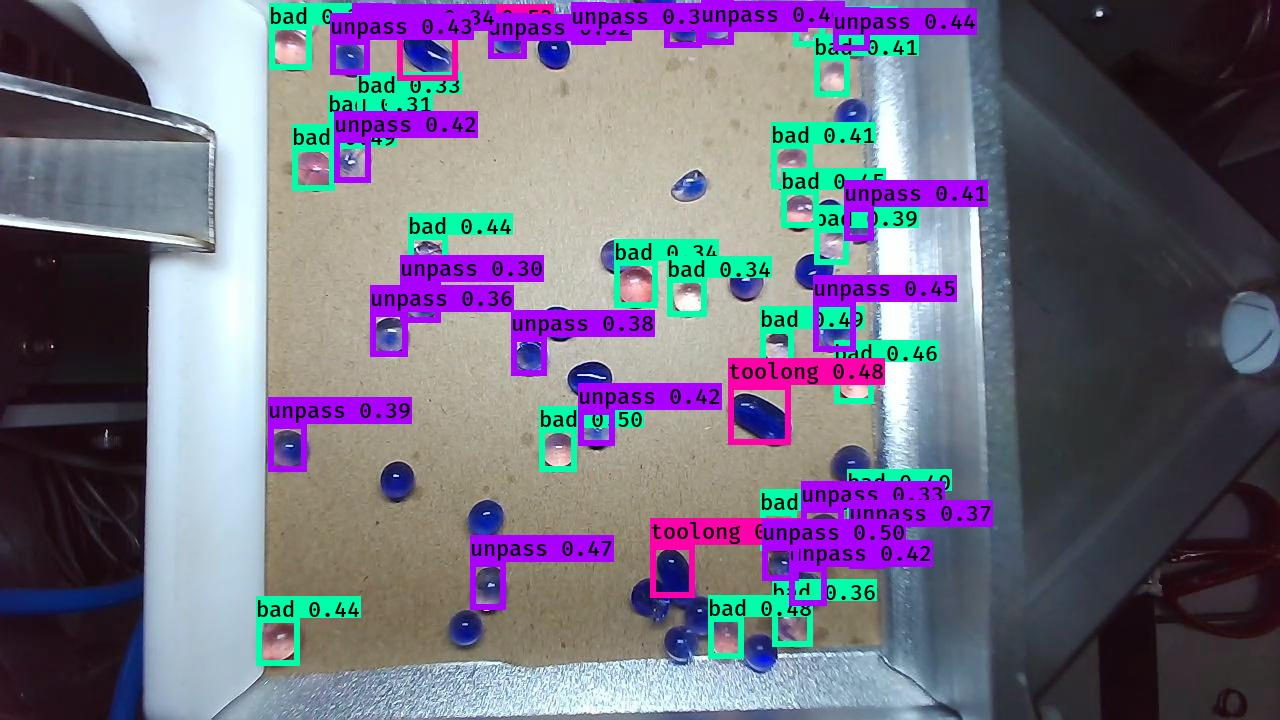bad: (769, 600, 816, 647), (256, 619, 305, 664), (766, 144, 813, 189), (295, 143, 342, 187), (793, 1, 830, 50), (272, 29, 313, 70), (706, 617, 747, 658), (617, 266, 658, 307), (833, 368, 875, 406), (669, 282, 712, 319), (540, 427, 576, 469), (358, 96, 395, 136), (281, 1, 321, 37), (780, 192, 817, 230), (815, 228, 852, 266), (817, 57, 851, 98), (409, 239, 451, 272), (845, 497, 884, 532), (762, 330, 796, 367), (329, 118, 365, 152), (764, 516, 798, 549)
defact: (669, 167, 708, 202)
pass: (626, 574, 672, 627), (566, 357, 613, 402), (465, 498, 508, 542), (830, 441, 870, 488), (377, 459, 417, 503), (723, 261, 761, 304), (682, 594, 720, 636), (742, 633, 780, 675), (794, 250, 832, 291), (835, 95, 872, 137), (449, 607, 484, 651), (537, 302, 575, 340), (538, 31, 573, 71), (662, 625, 698, 662), (812, 196, 843, 231)
toolong: (728, 390, 795, 449), (399, 31, 461, 78), (654, 542, 695, 602)
unpass: (832, 3, 874, 59), (817, 305, 861, 355), (267, 428, 313, 473), (468, 564, 506, 614), (348, 1, 392, 40), (370, 316, 410, 358), (666, 7, 704, 49), (577, 410, 616, 450), (805, 512, 842, 552), (598, 238, 635, 278), (401, 284, 439, 322), (332, 40, 369, 79), (673, 244, 710, 283), (336, 141, 373, 180), (852, 530, 889, 569), (490, 17, 526, 57), (702, 3, 737, 44), (513, 338, 548, 378), (573, 4, 608, 43), (842, 209, 876, 248), (793, 568, 827, 604), (766, 549, 800, 583)
